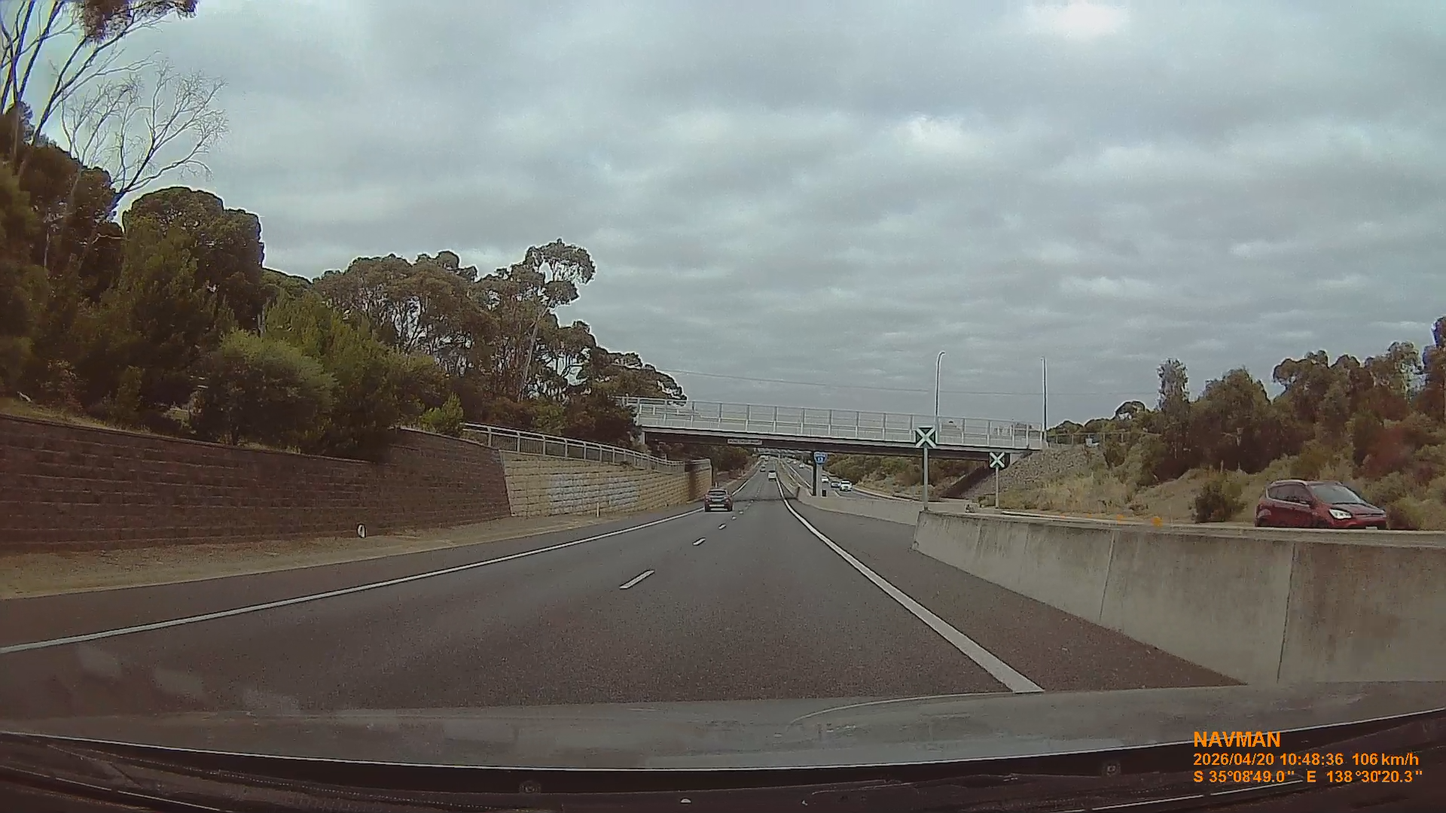fences: (0, 415, 510, 551), (499, 452, 692, 517)
road barriers: (812, 489, 1446, 683), (803, 485, 938, 531)
